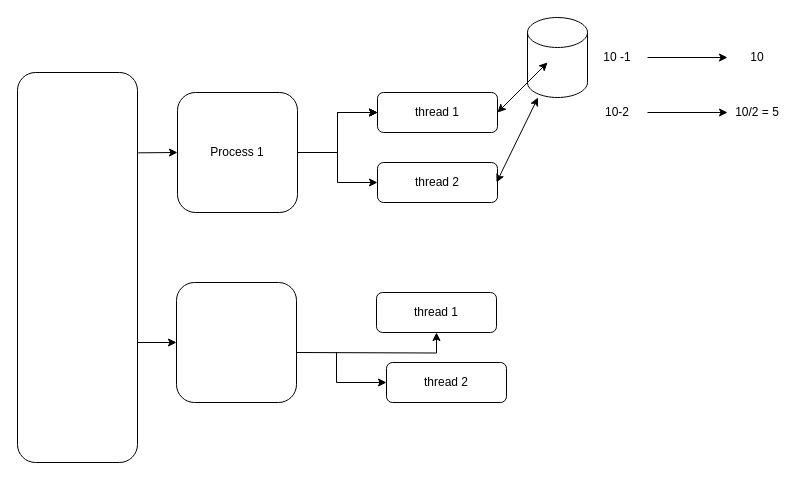
This 805x480 diagram has some shape labels left out. The box of each missing label's shape, as (x1, y1, x2, y2) in pixels:
app (crome): (16, 72, 138, 462)
process 2: (176, 282, 296, 402)
